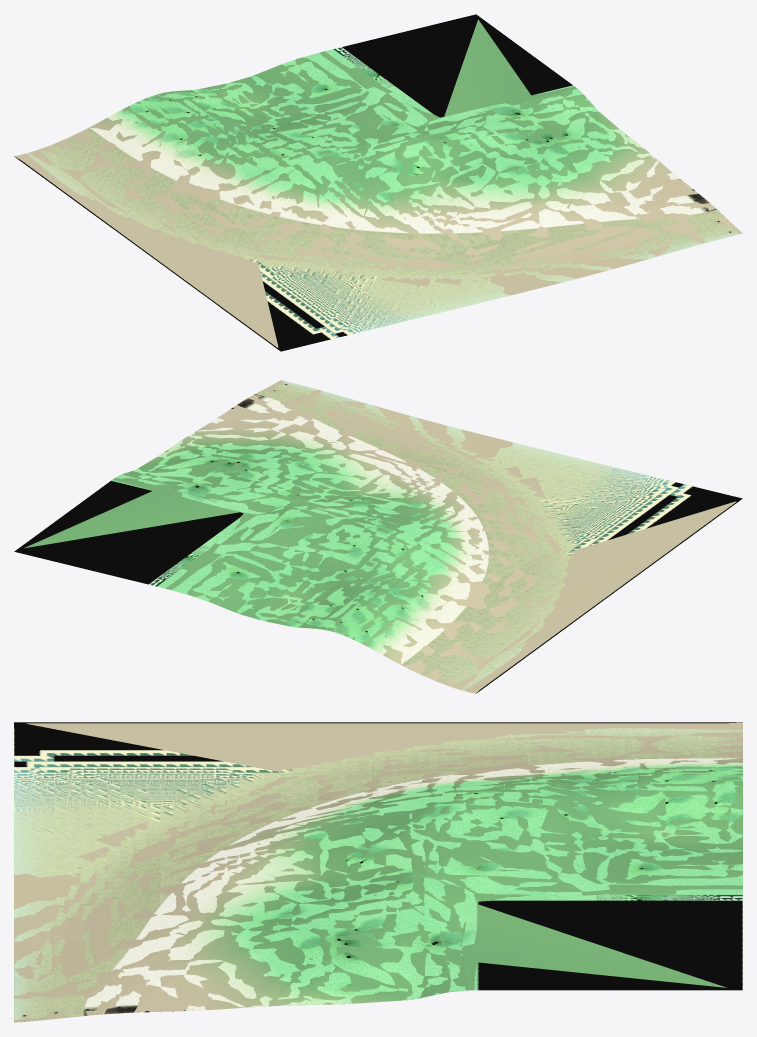
The model's file is IslandQ_ws-transformed.glb.
3 views of the same model, one above another, from view 1: azimuth 30°, elevation 25°; view 2: azimuth 150°, elevation 25°; view 3: azimuth 270°, elevation 25° (orthographic). The views are drawn at different scales.
Parts seen in each view (by area): view 1: IslandQ_ws, IslandQ_n_n_proxy; view 2: IslandQ_ws, IslandQ_n_n_proxy; view 3: IslandQ_ws, IslandQ_n_n_proxy.
Boxes of the visible parts, x1,y1,x2,y2 form: IslandQ_ws: [14, 14, 738, 351]; IslandQ_n_n_proxy: [15, 19, 742, 347]; IslandQ_ws: [14, 381, 742, 693]; IslandQ_n_n_proxy: [24, 380, 736, 693]; IslandQ_ws: [14, 722, 742, 1022]; IslandQ_n_n_proxy: [14, 722, 742, 1022].
Bounding box in the file's own units: 161 × 11.56 × 161.
Materials: 1 (1 with a texture image).
